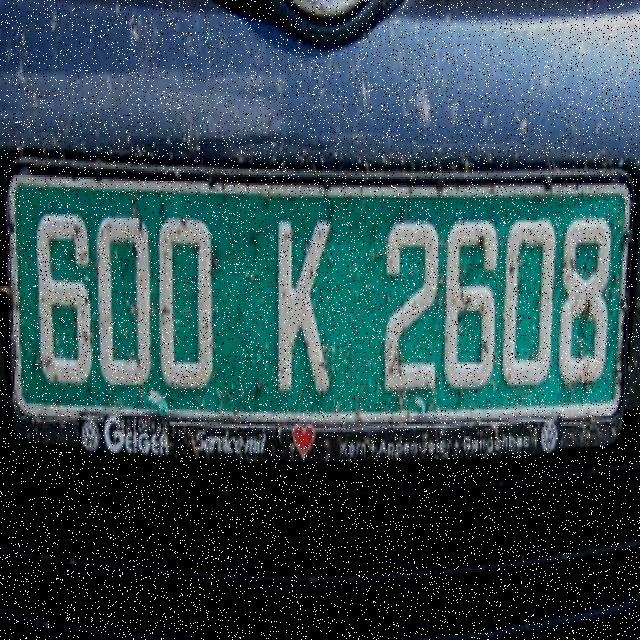licenseplate: (5, 132, 640, 490)
